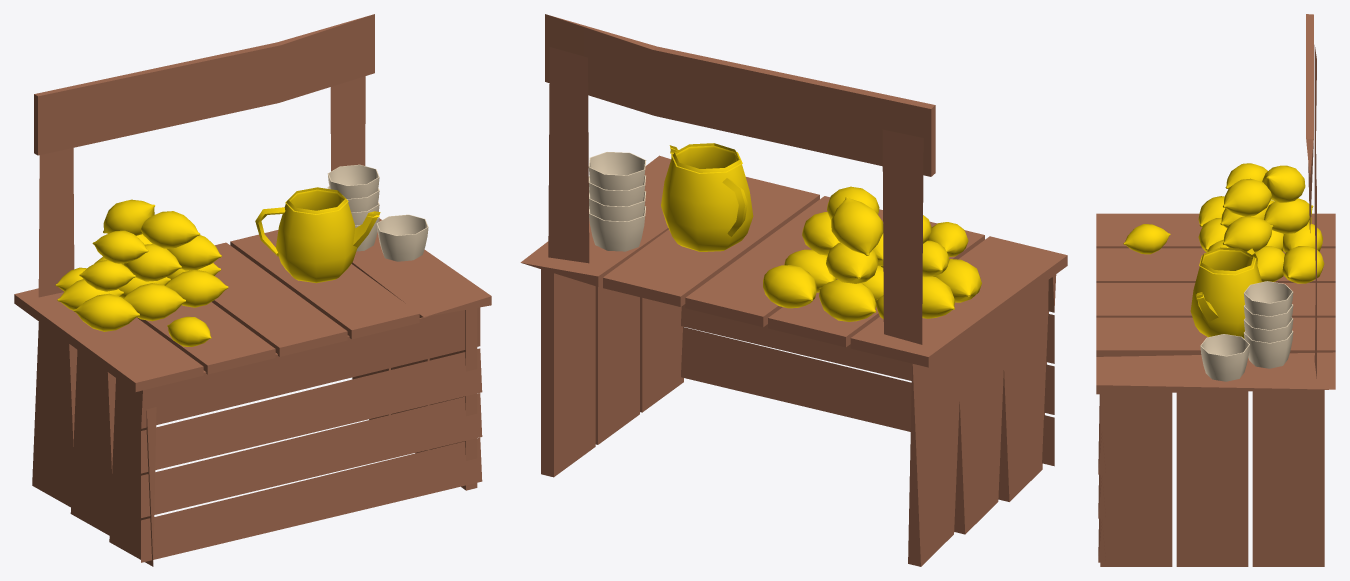
The model's file is lemonade-stand.fbx.
3 views of the same model, side by side, from view 1: azimuth 30°, elevation 25°; view 2: azimuth 150°, elevation 25°; view 3: azimuth 270°, elevation 25° (orthographic). The views are drawn at different scales.
Parts seen in each view (by area): view 1: 10. lemonade-stand; view 2: 10. lemonade-stand; view 3: 10. lemonade-stand.
Boxes of the visible parts, x1,y1,x2,y2 form: 10. lemonade-stand: (14,14,491,566); 10. lemonade-stand: (520,14,1067,566); 10. lemonade-stand: (1096,14,1335,566).
Bounding box in the file's own units: 216 × 230 × 127.
Materials: 1 (1 with a texture image).
